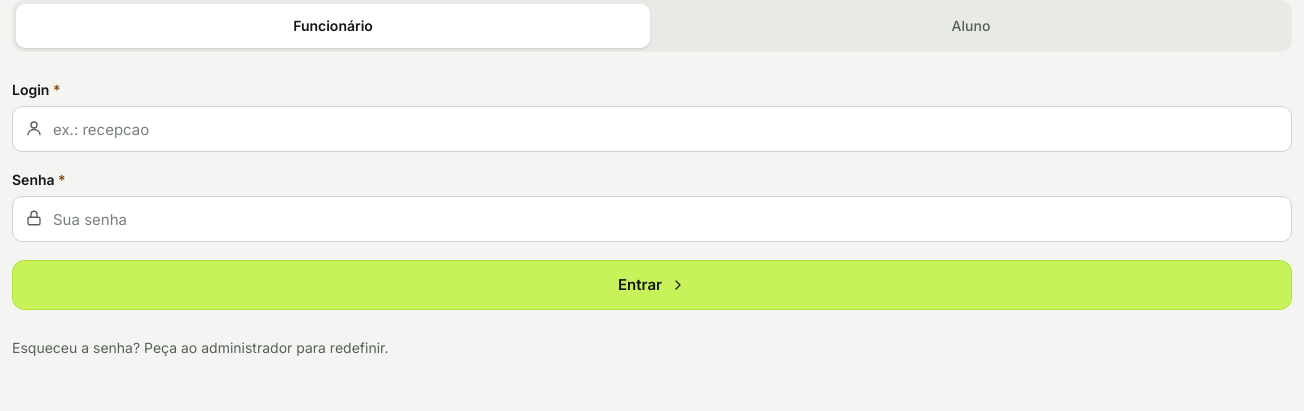
FormLogin › mostra o erro e continua na tela quando o login falha
Type "maria01" into the field labelled "Login" at (652, 129), box [12,106,1292,152]
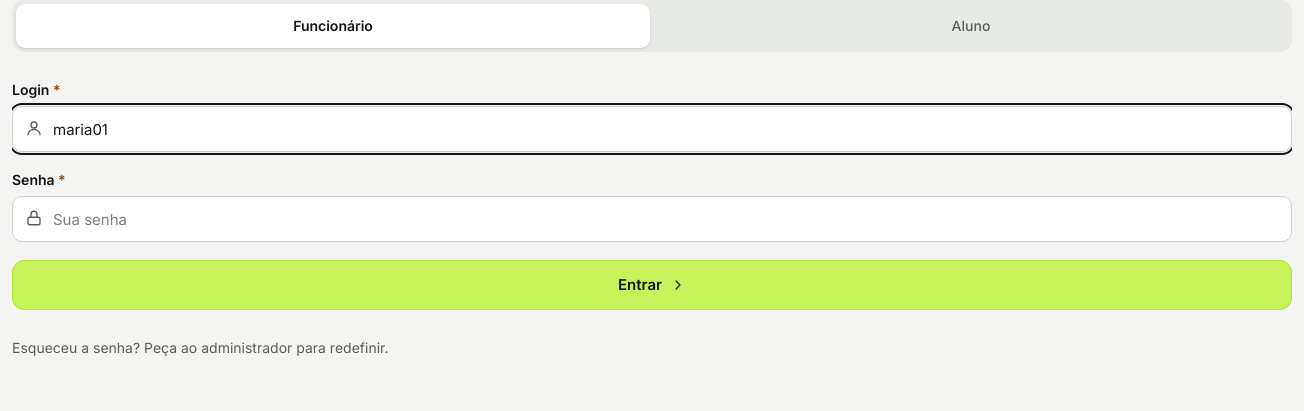
Type "senha1234" into the password field labelled "Senha" at (652, 219), box [12,196,1292,242]
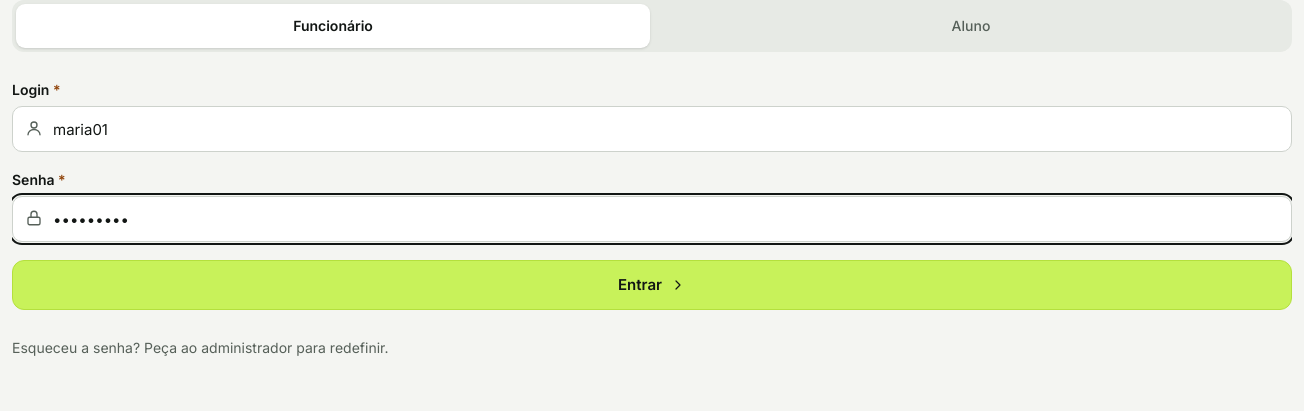
Click the button "Entrar" at (652, 285), box [12,260,1292,310]
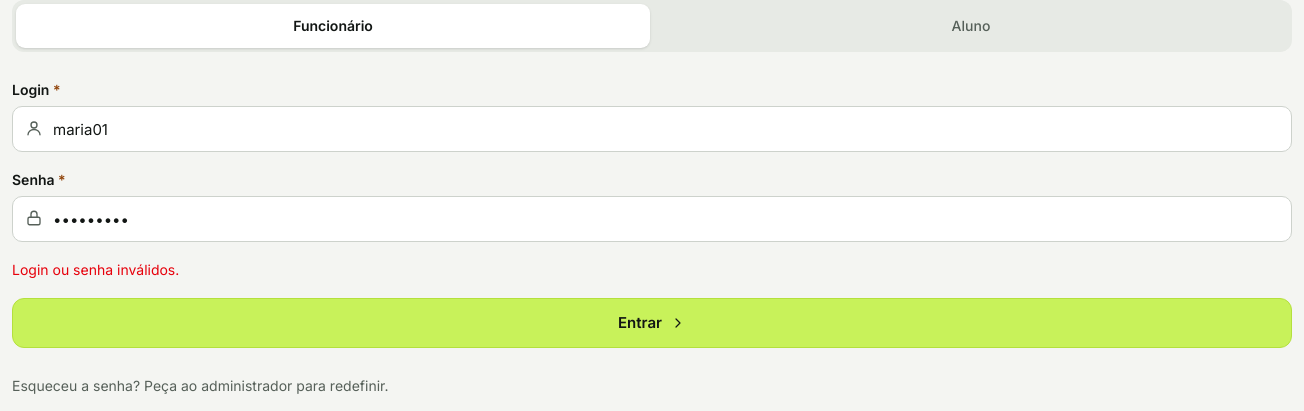
Expected: the button "Entrar" is enabled, [12,298,1292,348]
Now the message reads "Login ou senha inválidos.", box [12,261,179,278]
